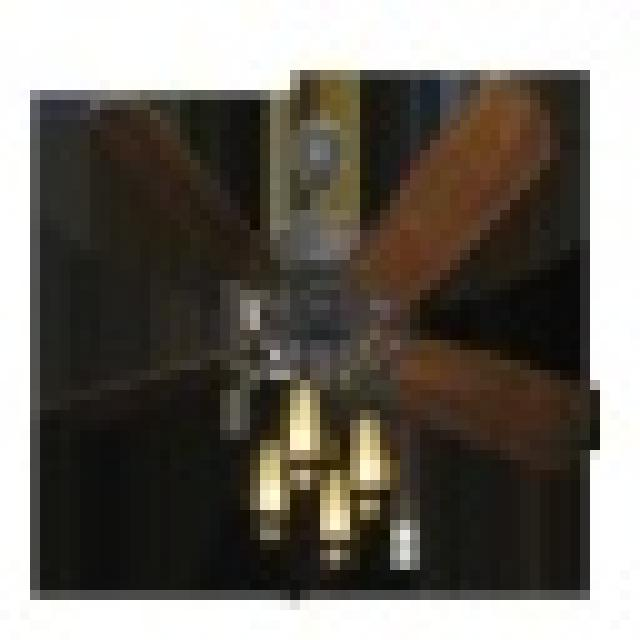Bulb: (44, 102, 614, 561)
